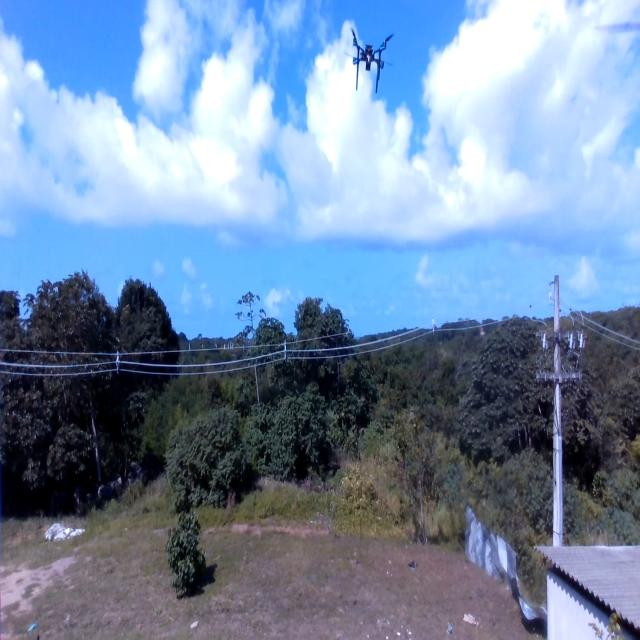-uav-: (334, 15, 418, 121)
